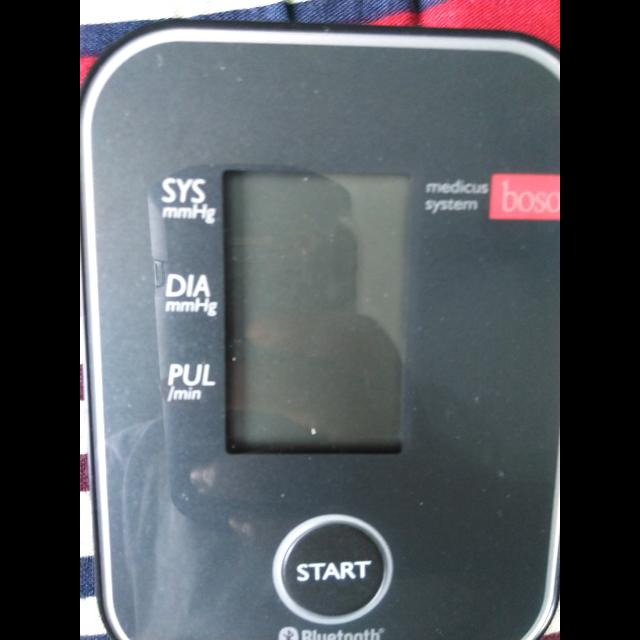Blood-Pressure-Monitor: (80, 16, 560, 640)
